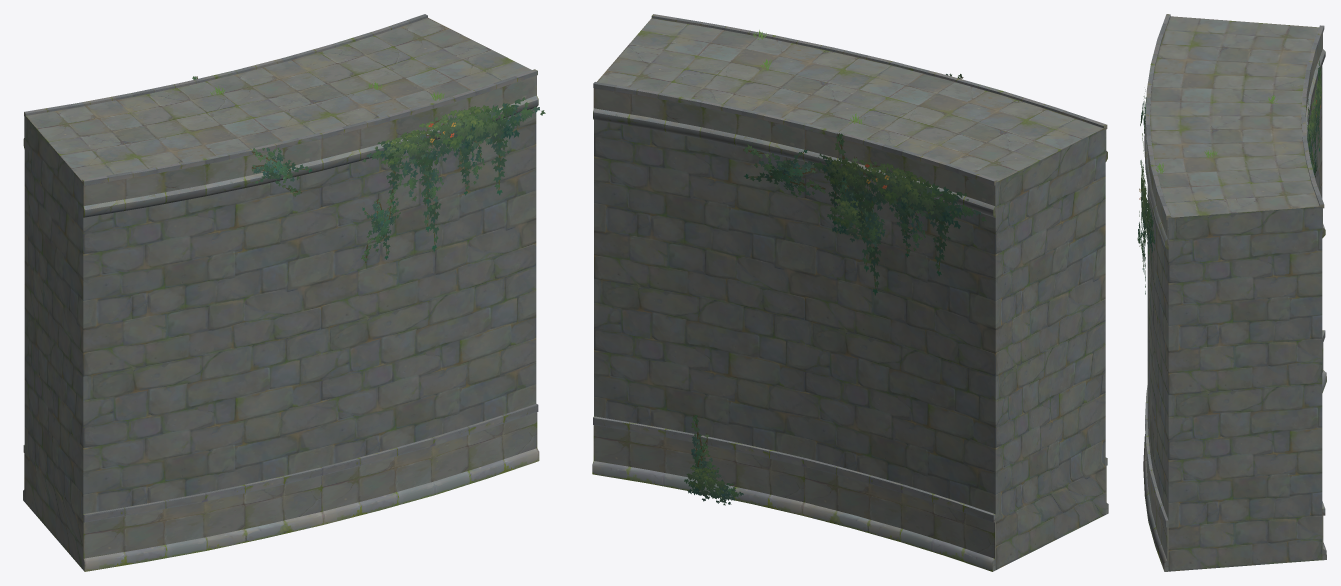
File: Area_MdBuild_SdWall02_21_Group.fbx
The picture shows the model from 3 angles, left to right: view 1: azimuth 30°, elevation 25°; view 2: azimuth 150°, elevation 25°; view 3: azimuth 270°, elevation 25°; orthographic projection. The views are drawn at different scales.
Visible parts, largest first — view 1: Area_MdBuild_SdWall02_21_Lod0, Stages_LYLvy02_Vo (1), Stages_LYLvy09_Vo (2), Stages_LYLvy09_Vo (1); view 2: Area_MdBuild_SdWall02_21_Lod0, Stages_LYLvy02_Vo (2), Stages_LYLvy04_Vo (1), Stages_LYLvy09_Vo (1).001, Stages_LYLvy04_Vo (1).001; view 3: Area_MdBuild_SdWall02_21_Lod0, Stages_LYLvy02_Vo (1), Stages_LYLvy02_Vo (2).
Part boxes in pixels (x1,y1,x2,y2): Area_MdBuild_SdWall02_21_Lod0: [23, 14, 539, 571]; Stages_LYLvy02_Vo (1): [362, 97, 545, 251]; Stages_LYLvy09_Vo (2): [251, 147, 312, 196]; Stages_LYLvy09_Vo (1): [361, 188, 400, 262]; Area_MdBuild_SdWall02_21_Lod0: [592, 14, 1108, 571]; Stages_LYLvy02_Vo (2): [805, 153, 986, 295]; Stages_LYLvy04_Vo (1): [684, 415, 743, 505]; Stages_LYLvy09_Vo (1).001: [743, 144, 825, 197]; Stages_LYLvy04_Vo (1).001: [827, 133, 885, 245]; Area_MdBuild_SdWall02_21_Lod0: [1143, 14, 1326, 571]; Stages_LYLvy02_Vo (1): [1139, 160, 1154, 294]; Stages_LYLvy02_Vo (2): [1307, 60, 1322, 170].
Size of the model in its own units: 25.63 by 20.92 by 9.72.
5 materials, 5 textured.
